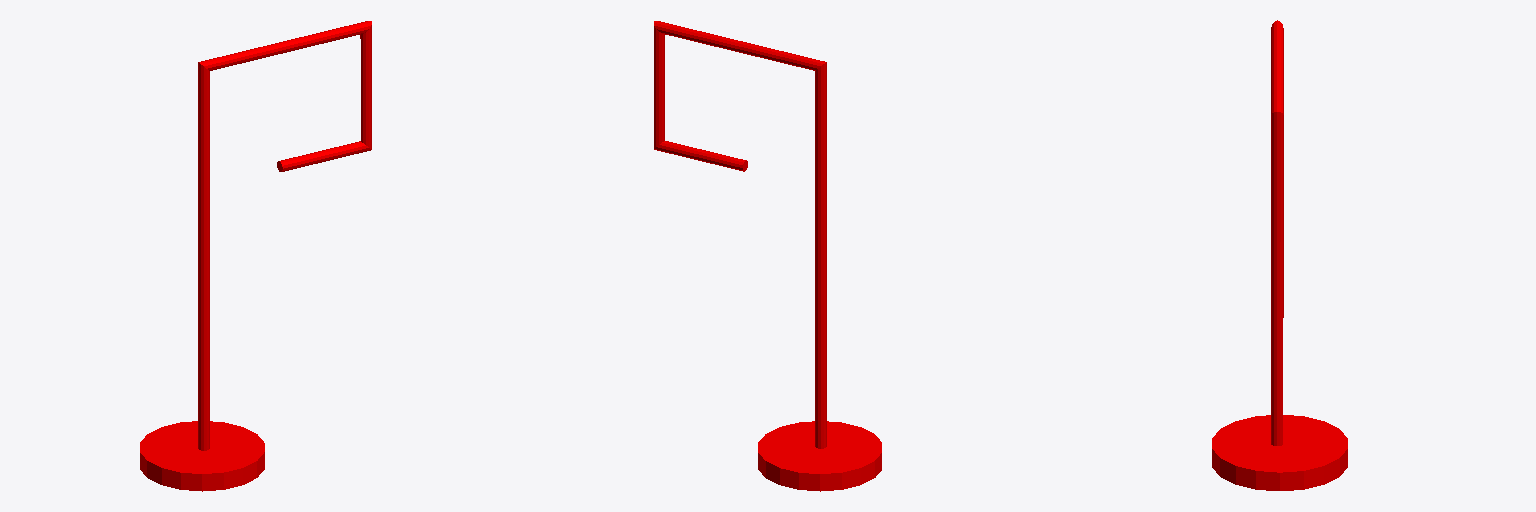
URDF robot description (ring):
<?xml version="0.0" ?>
<robot name="ring">
    <material name="white">
        <color rgba="1 0 0 1"/>
    </material>

    <link name="baseLink">
        <!-- from lego/lego.urdf -->
        <contact>
            <lateral_friction value="1.0"/>
            <rolling_friction value="0.0"/>
            <contact_cfm value="0.0"/>
            <contact_erp value="1.0"/>
        </contact>
        <inertial>
            <origin rpy="0 0 0" xyz="0 0 0"/>
            <mass value="0.01"/>
            <inertia ixx="1" ixy="0" ixz="0" iyy="1" iyz="0" izz="1"/>
        </inertial>
        <visual>
            <origin rpy="1.57 0 0" xyz="0 0 0"/>
            <geometry>
                <!--        radius: 10mm, depth: 14.5mm-->
                <mesh filename="meshes/p.obj" scale="1 1 1"/>
                <!--        <box size="0.002 0.002 0.002"/>-->
            </geometry>
            <material name="white"/>
        </visual>
        <collision>
            <origin rpy="1.57 0 0" xyz="0 0 0"/>
            <geometry>
                <mesh filename="meshes/p_vhacd.obj" scale="1 1 1"/>
                       <!-- <box size="2 2 2"/> -->
            </geometry>
        </collision>
    </link>
</robot>

--- Facts derived from the render (not from the file) ---
Views: 3 orthographic renders of the robot side by side, from view 1: azimuth 30°, elevation 25°; view 2: azimuth 150°, elevation 25°; view 3: azimuth 270°, elevation 25°.
Model ring with 1 links and 0 joints (none), rooted at baseLink, posed every joint at zero.
Links seen in each view (by area): view 1: baseLink; view 2: baseLink; view 3: baseLink.
Boxes of the visible links, <box> form: baseLink: <box>140,21,371,491</box>; baseLink: <box>654,21,881,491</box>; baseLink: <box>1212,20,1347,490</box>.
Bounding box of the posed robot: 0.0638 × 0.031 × 0.1106 m (x, y, z).
1 mesh visuals loaded from 1 distinct referenced files (1 OBJ).